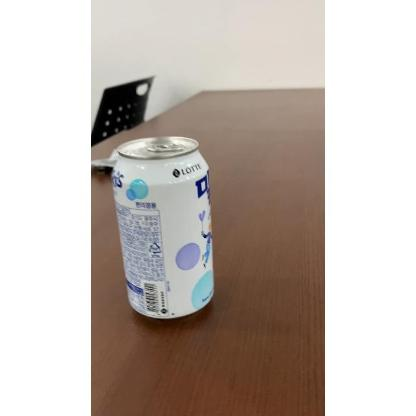Can: (108, 138, 216, 320)
